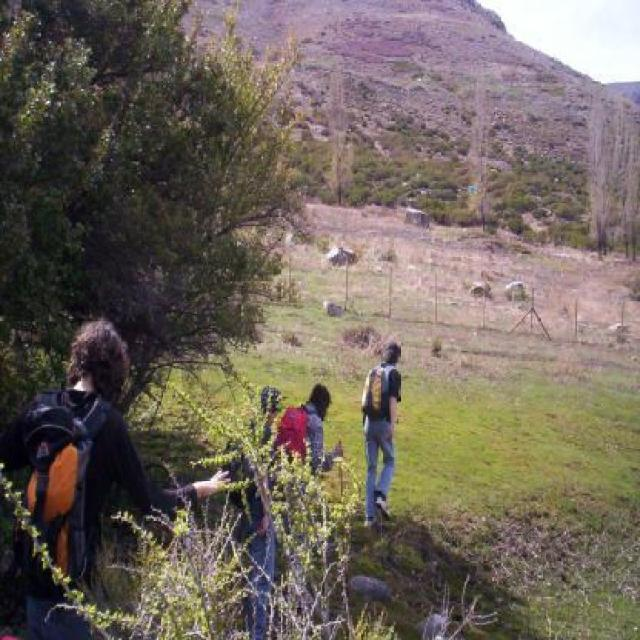backpack: (14, 400, 95, 600), (274, 403, 308, 466), (360, 365, 389, 420)
